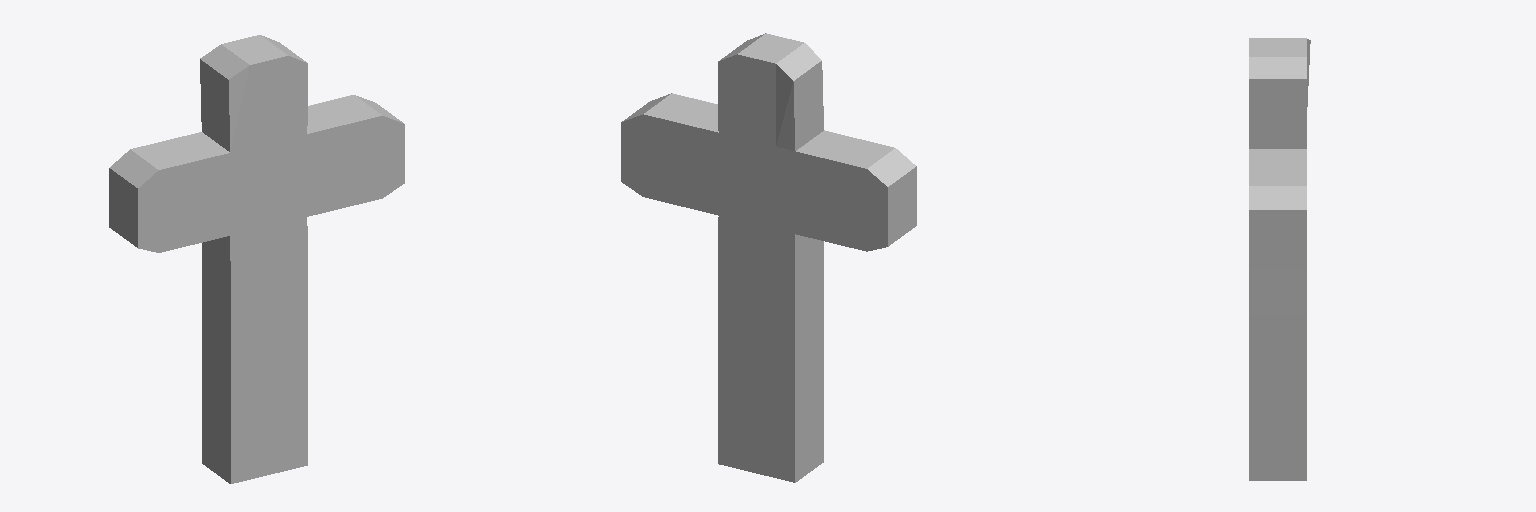
Rendered from cross2.obj.
3 views of the same model, side by side, from view 1: azimuth 30°, elevation 25°; view 2: azimuth 150°, elevation 25°; view 3: azimuth 270°, elevation 25° (orthographic).
Visible parts, largest first — view 1: cross:pCube1; view 2: cross:pCube1; view 3: cross:pCube1.
Boxes of the visible parts, x1,y1,x2,y2 form: cross:pCube1: [109, 35, 404, 483]; cross:pCube1: [621, 33, 916, 482]; cross:pCube1: [1249, 38, 1310, 480].
Size of the model in its own units: 1.96 by 2.91 by 0.3905.